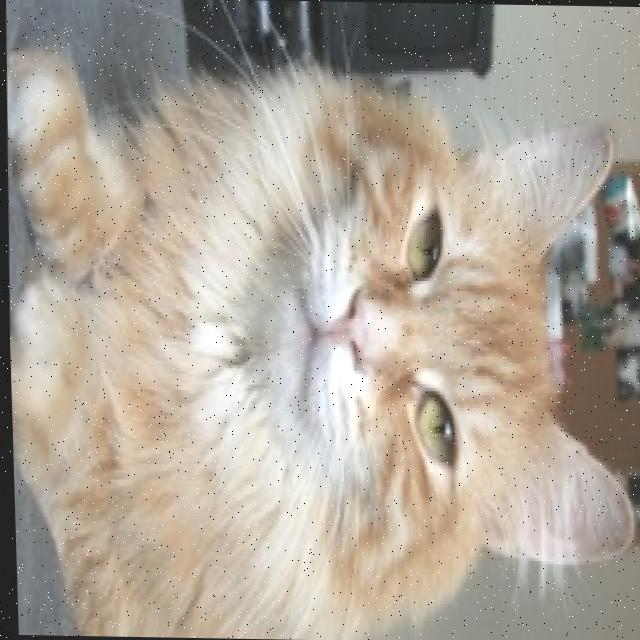Maine Coon: (1, 36, 640, 640)
